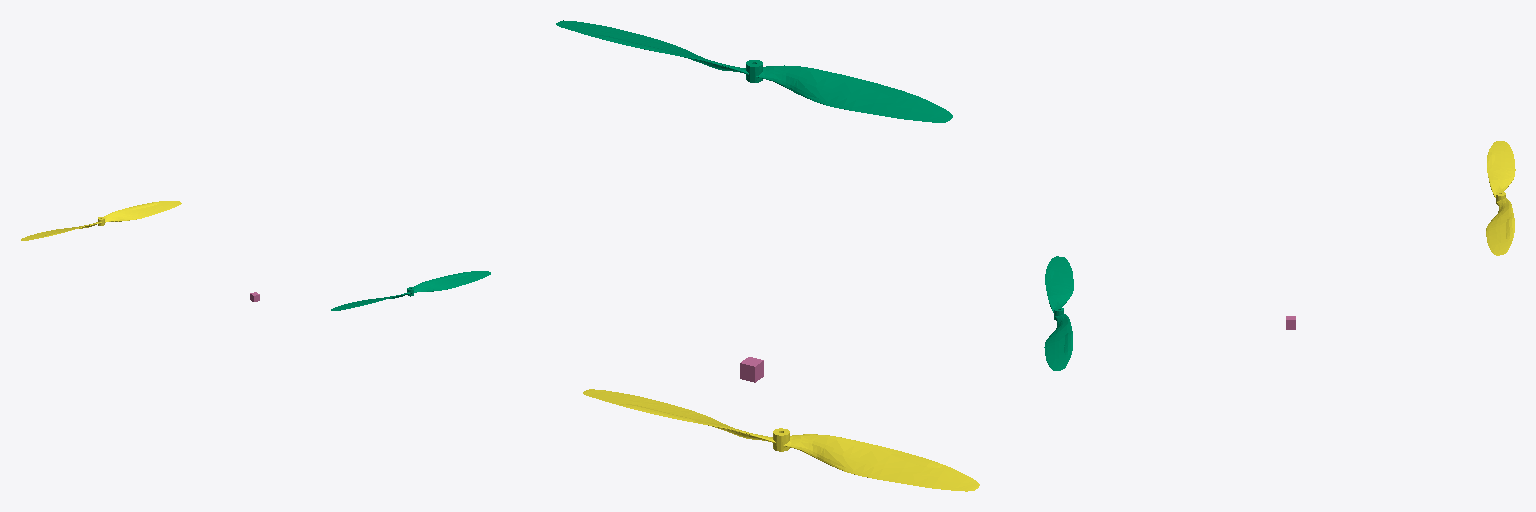
--- Render facts (derived) ---
3 views of the same robot in one strip: view 1: azimuth 30°, elevation 25°; view 2: azimuth 150°, elevation 25°; view 3: azimuth 270°, elevation 25° (orthographic).
Model iris with 8 links and 7 joints (1 revolute, 4 continuous, 2 fixed), rooted at base_link, posed all joints at 0.
Links seen in each view (by area): view 1: rotor_0, rotor_1; view 2: rotor_0, rotor_1; view 3: rotor_1, rotor_0.
Link boxes in pixels (left/top/right/bottom): rotor_0: left=331, top=271, right=490, bottom=310; rotor_1: left=21, top=201, right=181, bottom=240; rotor_0: left=556, top=20, right=952, bottom=122; rotor_1: left=583, top=389, right=979, bottom=491; rotor_1: left=1486, top=141, right=1515, bottom=255; rotor_0: left=1044, top=256, right=1073, bottom=370.
Size in the robot's own frame: 0.5177 by 0.448 by 0.078 metres.
2 mesh visuals loaded from 3 distinct referenced files (1 Collada DAE); not drawn: 3 (reference not matched to a file when rendering).

robot.urdf — iris:
<?xml version="1.0" ?>
<!-- =================================================================================== -->
<!-- |    This document was autogenerated by xacro from [local-path]/src/Firmware/Tools/sitl_gazebo/models/rotors_description/urdf/iris_base.xacro | -->
<!-- |    EDITING THIS FILE BY HAND IS NOT RECOMMENDED                                 | -->
<!-- =================================================================================== -->
<robot name="iris" xmlns:xacro="http://ros.org/wiki/xacro">
  <!-- Properties that can be assigned at build time as arguments.
  Is there a reason not to make all properties arguments?
  -->
  <!-- The following causes segfault with multiple vehicles if defaults to true!!! -->
  <!-- macros for gazebo plugins, sensors -->
  <!-- Macro to add logging to a bag file. -->
  <!-- Macro to add a camera. -->
  <!-- Macro to add the controller interface. -->
  <!-- Macro to add the gps_plugin. -->
  <!-- Macro to add the mavlink interface. -->
  <!-- Macro to add an IMU. -->
  <!-- Macro to add a generic odometry sensor. -->
  <!-- Macro to add the wind plugin. -->
  <!-- VI sensor macros -->
  <!-- Macro to add a VI-sensor camera. -->
  <!-- Macro to add a depth camera on the VI-sensor. -->
  <!-- VI-Sensor Macro -->
  <!-- Instantiate iris "mechanics" -->
  <!-- Properties -->
  <!-- [kg] -->
  <!-- [m] -->
  <!-- [m] -->
  <!-- [kg] -->
  <!-- [m] -->
  <!-- [m] -->
  <!-- [m] -->
  <!-- [m] -->
  <!-- [m] -->
  <!-- [m] -->
  <!-- [kg.m/s^2] -->
  <!-- [m] -->
  <!-- [s] -->
  <!-- [s] -->
  <!-- [rad/s] -->
  <!-- Property Blocks -->
  <!-- inertia of a single rotor, assuming it is a cuboid. Height=3mm, width=15mm -->
  <!-- Included URDF Files -->
  <!-- Main multirotor link -->
  <!-- Rotor joint and link -->
  <!-- Instantiate multirotor_base_macro once -->
  <!-- Instantiate multirotor_base_macro once -->

  <!-- Bloque base para odom -->
  <link name="base_link"/>
  <!--  <visual>
      <origin rpy="0 0 0" xyz="0 0 0"/>
      <geometry>
        <box size="0.01 0.01 0.01"/>
      </geometry>
      <material name="Black_metal"/>
    </visual>
    <inertial>
      <origin rpy="0 0 0" xyz="1.1102e-16 0 0"/>
      <mass value="1e-06"/>
      <inertia ixx="1.6667e-13" ixy="3.6964e-27" ixz="-3.3658e-30" iyy="1.6667e-13" iyz="-7.8823e-43" izz="1.6667e-13"/>
    </inertial>
  </link> -->
  <!-- AQUI MODIFIQUE -->

  <joint name="base_joint" type="fixed">
    <origin rpy="0 0 0" xyz="0 0 0"/>
    <parent link="base_link"/>
    <child link="base_link_inertia"/>
  </joint>
  <link name="base_link_inertia">
    <inertial>
      <mass value="1.5"/>
      <!-- [kg] 1.57079 -->
      <origin xyz="0 0 0"/>
      <inertia ixx="0.0347563" ixy="0.0" ixz="0.0" iyy="0.0458929" iyz="0.0" izz="0.0977"/>
    </inertial>
    <visual>
      <origin rpy="0 0 0" xyz="0 0 0"/>
      <geometry>
        <mesh filename="package://mavros_off_board/meshes/iris.stl" scale="1 1 1"/>
        <!-- <box size="${body_width} ${body_width} ${body_height}"/> -->
        <!-- [m] [m] [m] -->
      </geometry>
    </visual>
    <collision>
      <origin rpy="0 0 0" xyz="0 0 0"/>
      <geometry>
        <box size="0.47 0.47 0.11"/>
        <!-- [m] [m] [m] -->
      </geometry>
    </collision>
  </link>
  <!-- attach multirotor_base_plugin to the base_link -->
  <gazebo>
    <plugin filename="libgazebo_multirotor_base_plugin.so" name="rosbag">
      <robotNamespace></robotNamespace>
      <linkName>base_link</linkName>
      <rotorVelocitySlowdownSim>10</rotorVelocitySlowdownSim>
    </plugin>
  </gazebo>

  <gazebo reference="base_link">
    <material>Gazebo/DarkGrey</material>
    <collision name="base_link_inertia_collision">
      <surface>
        <contact>
          <ode>
            <min_depth>0.001</min_depth>
            <max_vel>0.0</max_vel>
          </ode>
        </contact>
        <friction>
          <ode/>
        </friction>
      </surface>
    </collision>
  </gazebo>

  <!-- Instantiate rotors -->
  <joint name="rotor_0_joint" type="continuous">
    <origin rpy="0 0 0" xyz="0.13 -0.22 0.023"/>
    <axis xyz="0 0 1"/>
    <!-- TODO(ff): not currently set because it's not yet supported -->
    <!-- <limit effort="2000" velocity="${max_rot_velocity}" /> -->
    <parent link="base_link"/>
    <child link="rotor_0"/>
  </joint>
  <!-- TODO(ff): not currently set because it's not yet supported -->
  <!-- <gazebo reference="rotor_${motor_number}_joint"> <axis> <xyz>0 0 1</xyz>
      <limit> <velocity> ${max_rot_velocity} </velocity> </limit> </axis> </gazebo> -->
  <link name="rotor_0">
    <inertial>
      <mass value="0.005"/>
      <!-- [kg] -->
      <inertia ixx="9.75e-07" ixy="0.0" ixz="0.0" iyy="0.000273104166667" iyz="0.0" izz="0.000274004166667"/>
    </inertial>
    <visual>
      <geometry>
        <!-- <cylinder length="0.005" radius="${radius_rotor}"/> -->
        <!-- [m] -->
        <!-- <mesh filename="package://mavlink_sitl_gazebo/models/rotors_description/meshes/propeller_${direction}.dae" -->
        <mesh filename="package://mavros_off_board/meshes/iris_prop_ccw.dae" scale="1 1 1"/>
        <!-- <box size="${2*radius_rotor} 0.01 0.005"/> -->
      </geometry>
    </visual>
    <collision>
      <geometry>
        <cylinder length="0.005" radius="0.128"/>
        <!-- [m] -->
      </geometry>
    </collision>
  </link>
  <gazebo>
    <plugin filename="libgazebo_motor_model.so" name="front_right_motor_model">
      <robotNamespace></robotNamespace>
      <jointName>rotor_0_joint</jointName>
      <linkName>rotor_0</linkName>
      <turningDirection>ccw</turningDirection>
      <timeConstantUp>0.0125</timeConstantUp>
      <timeConstantDown>0.025</timeConstantDown>
      <maxRotVelocity>1100</maxRotVelocity>
      <motorConstant>8.54858e-06</motorConstant>
      <momentConstant>0.06</momentConstant>
      <commandSubTopic>/gazebo/command/motor_speed</commandSubTopic>
      <motorNumber>0</motorNumber>
      <rotorDragCoefficient>0.000806428</rotorDragCoefficient>
      <rollingMomentCoefficient>1e-06</rollingMomentCoefficient>
      <motorSpeedPubTopic>/motor_speed/0</motorSpeedPubTopic>
      <rotorVelocitySlowdownSim>10</rotorVelocitySlowdownSim>
      <!--
        <gazebo_joint_control_pid>
          <p>0.1</p>
          <i>0</i>
          <d>0</d>
          <iMax>0</iMax>
          <iMin>0</iMin>
          <cmdMax>3</cmdMax>
          <cmdMin>-3</cmdMin>
        </gazebo_joint_control_pid>
      -->
    </plugin>
  </gazebo>
  <gazebo reference="rotor_0">
    <material>Gazebo/Blue</material>
  </gazebo>
  <joint name="rotor_1_joint" type="continuous">
    <origin rpy="0 0 0" xyz="-0.13 0.2 0.023"/>
    <axis xyz="0 0 1"/>
    <!-- TODO(ff): not currently set because it's not yet supported -->
    <!-- <limit effort="2000" velocity="${max_rot_velocity}" /> -->
    <parent link="base_link"/>
    <child link="rotor_1"/>
  </joint>
  <!-- TODO(ff): not currently set because it's not yet supported -->
  <!-- <gazebo reference="rotor_${motor_number}_joint"> <axis> <xyz>0 0 1</xyz>
      <limit> <velocity> ${max_rot_velocity} </velocity> </limit> </axis> </gazebo> -->
  <link name="rotor_1">
    <inertial>
      <mass value="0.005"/>
      <!-- [kg] -->
      <inertia ixx="9.75e-07" ixy="0.0" ixz="0.0" iyy="0.000273104166667" iyz="0.0" izz="0.000274004166667"/>
    </inertial>
    <visual>
      <geometry>
        <!-- <cylinder length="0.005" radius="${radius_rotor}"/> -->
        <!-- [m] -->
        <!-- <mesh filename="package://mavlink_sitl_gazebo/models/rotors_description/meshes/propeller_${direction}.dae" -->
        <mesh filename="package://mavros_off_board/meshes/iris_prop_ccw.dae" scale="1 1 1"/>
        <!-- <box size="${2*radius_rotor} 0.01 0.005"/> -->
      </geometry>
    </visual>
    <collision>
      <geometry>
        <cylinder length="0.005" radius="0.128"/>
        <!-- [m] -->
      </geometry>
    </collision>
  </link>
  <gazebo>
    <plugin filename="libgazebo_motor_model.so" name="back_left_motor_model">
      <robotNamespace></robotNamespace>
      <jointName>rotor_1_joint</jointName>
      <linkName>rotor_1</linkName>
      <turningDirection>ccw</turningDirection>
      <timeConstantUp>0.0125</timeConstantUp>
      <timeConstantDown>0.025</timeConstantDown>
      <maxRotVelocity>1100</maxRotVelocity>
      <motorConstant>8.54858e-06</motorConstant>
      <momentConstant>0.06</momentConstant>
      <commandSubTopic>/gazebo/command/motor_speed</commandSubTopic>
      <motorNumber>1</motorNumber>
      <rotorDragCoefficient>0.000806428</rotorDragCoefficient>
      <rollingMomentCoefficient>1e-06</rollingMomentCoefficient>
      <motorSpeedPubTopic>/motor_speed/1</motorSpeedPubTopic>
      <rotorVelocitySlowdownSim>10</rotorVelocitySlowdownSim>
      <!--
        <gazebo_joint_control_pid>
          <p>0.1</p>
          <i>0</i>
          <d>0</d>
          <iMax>0</iMax>
          <iMin>0</iMin>
          <cmdMax>3</cmdMax>
          <cmdMin>-3</cmdMin>
        </gazebo_joint_control_pid>
      -->
    </plugin>
  </gazebo>
  <gazebo reference="rotor_1">
    <material>Gazebo/DarkGrey</material>
  </gazebo>
  <joint name="rotor_2_joint" type="continuous">
    <origin rpy="0 0 0" xyz="0.13 0.22 0.023"/>
    <axis xyz="0 0 1"/>
    <!-- TODO(ff): not currently set because it's not yet supported -->
    <!-- <limit effort="2000" velocity="${max_rot_velocity}" /> -->
    <parent link="base_link"/>
    <child link="rotor_2"/>
  </joint>
  <!-- TODO(ff): not currently set because it's not yet supported -->
  <!-- <gazebo reference="rotor_${motor_number}_joint"> <axis> <xyz>0 0 1</xyz>
      <limit> <velocity> ${max_rot_velocity} </velocity> </limit> </axis> </gazebo> -->
  <link name="rotor_2">
    <inertial>
      <mass value="0.005"/>
      <!-- [kg] -->
      <inertia ixx="9.75e-07" ixy="0.0" ixz="0.0" iyy="0.000273104166667" iyz="0.0" izz="0.000274004166667"/>
    </inertial>
    <visual>
      <geometry>
        <!-- <cylinder length="0.005" radius="${radius_rotor}"/> -->
        <!-- [m] -->
        <!-- <mesh filename="package://mavlink_sitl_gazebo/models/rotors_description/meshes/propeller_${direction}.dae" -->
        <mesh filename="package://mavros_off_board/meshes/iris_prop_cw.dae" scale="1 1 1"/>
        <!-- <box size="${2*radius_rotor} 0.01 0.005"/> -->
      </geometry>
    </visual>
    <collision>
      <geometry>
        <cylinder length="0.005" radius="0.128"/>
        <!-- [m] -->
      </geometry>
    </collision>
  </link>
  <gazebo>
    <plugin filename="libgazebo_motor_model.so" name="front_left_motor_model">
      <robotNamespace></robotNamespace>
      <jointName>rotor_2_joint</jointName>
      <linkName>rotor_2</linkName>
      <turningDirection>cw</turningDirection>
      <timeConstantUp>0.0125</timeConstantUp>
      <timeConstantDown>0.025</timeConstantDown>
      <maxRotVelocity>1100</maxRotVelocity>
      <motorConstant>8.54858e-06</motorConstant>
      <momentConstant>0.06</momentConstant>
      <commandSubTopic>/gazebo/command/motor_speed</commandSubTopic>
      <motorNumber>2</motorNumber>
      <rotorDragCoefficient>0.000806428</rotorDragCoefficient>
      <rollingMomentCoefficient>1e-06</rollingMomentCoefficient>
      <motorSpeedPubTopic>/motor_speed/2</motorSpeedPubTopic>
      <rotorVelocitySlowdownSim>10</rotorVelocitySlowdownSim>
      <!--
        <gazebo_joint_control_pid>
          <p>0.1</p>
          <i>0</i>
          <d>0</d>
          <iMax>0</iMax>
          <iMin>0</iMin>
          <cmdMax>3</cmdMax>
          <cmdMin>-3</cmdMin>
        </gazebo_joint_control_pid>
      -->
    </plugin>
  </gazebo>
  <gazebo reference="rotor_2">
    <material>Gazebo/Blue</material>
  </gazebo>
  <joint name="rotor_3_joint" type="continuous">
    <origin rpy="0 0 0" xyz="-0.13 -0.2 0.023"/>
    <axis xyz="0 0 1"/>
    <!-- TODO(ff): not currently set because it's not yet supported -->
    <!-- <limit effort="2000" velocity="${max_rot_velocity}" /> -->
    <parent link="base_link"/>
    <child link="rotor_3"/>
  </joint>
  <!-- TODO(ff): not currently set because it's not yet supported -->
  <!-- <gazebo reference="rotor_${motor_number}_joint"> <axis> <xyz>0 0 1</xyz>
      <limit> <velocity> ${max_rot_velocity} </velocity> </limit> </axis> </gazebo> -->
  <link name="rotor_3">
    <inertial>
      <mass value="0.005"/>
      <!-- [kg] -->
      <inertia ixx="9.75e-07" ixy="0.0" ixz="0.0" iyy="0.000273104166667" iyz="0.0" izz="0.000274004166667"/>
    </inertial>
    <visual>
      <geometry>
        <!-- <cylinder length="0.005" radius="${radius_rotor}"/> -->
        <!-- [m] -->
        <!-- <mesh filename="package://mavlink_sitl_gazebo/models/rotors_description/meshes/propeller_${direction}.dae" -->
        <mesh filename="package://mavros_off_board/meshes/iris_prop_cw.dae" scale="1 1 1"/>
        <!-- <box size="${2*radius_rotor} 0.01 0.005"/> -->
      </geometry>
    </visual>
    <collision>
      <geometry>
        <cylinder length="0.005" radius="0.128"/>
        <!-- [m] -->
      </geometry>
    </collision>
  </link>
  <gazebo>
    <plugin filename="libgazebo_motor_model.so" name="back_right_motor_model">
      <robotNamespace></robotNamespace>
      <jointName>rotor_3_joint</jointName>
      <linkName>rotor_3</linkName>
      <turningDirection>cw</turningDirection>
      <timeConstantUp>0.0125</timeConstantUp>
      <timeConstantDown>0.025</timeConstantDown>
      <maxRotVelocity>1100</maxRotVelocity>
      <motorConstant>8.54858e-06</motorConstant>
      <momentConstant>0.06</momentConstant>
      <commandSubTopic>/gazebo/command/motor_speed</commandSubTopic>
      <motorNumber>3</motorNumber>
      <rotorDragCoefficient>0.000806428</rotorDragCoefficient>
      <rollingMomentCoefficient>1e-06</rollingMomentCoefficient>
      <motorSpeedPubTopic>/motor_speed/3</motorSpeedPubTopic>
      <rotorVelocitySlowdownSim>10</rotorVelocitySlowdownSim>
      <!--
        <gazebo_joint_control_pid>
          <p>0.1</p>
          <i>0</i>
          <d>0</d>
          <iMax>0</iMax>
          <iMin>0</iMin>
          <cmdMax>3</cmdMax>
          <cmdMin>-3</cmdMin>
        </gazebo_joint_control_pid>
      -->
    </plugin>
  </gazebo>
  <gazebo reference="rotor_3">
    <material>Gazebo/DarkGrey</material>
  </gazebo>
  <!-- Instantiate gps plugin. -->
  <gazebo>
    <plugin filename="libgazebo_gps_plugin.so" name="gps_plugin">
      <robotNamespace></robotNamespace>
      <gpsNoise>true</gpsNoise>
    </plugin>
  </gazebo>
  <!-- Instantiate mavlink telemetry interface. -->
  <gazebo>
    <plugin filename="libgazebo_mavlink_interface.so" name="mavlink_interface">
      <robotNamespace></robotNamespace>
      <imuSubTopic>/imu</imuSubTopic>
      <gpsSubTopic>/gps</gpsSubTopic>
      <mavlink_addr>INADDR_ANY</mavlink_addr>
      <mavlink_udp_port>14560</mavlink_udp_port>
      <serialEnabled>false</serialEnabled>
      <serialDevice>/dev/ttyACM0</serialDevice>
      <baudRate>921600</baudRate>
      <qgc_addr>INADDR_ANY</qgc_addr>
      <qgc_udp_port>14550</qgc_udp_port>
      <hil_mode>false</hil_mode>
      <hil_state_level>false</hil_state_level>
      <vehicle_is_tailsitter>false</vehicle_is_tailsitter>
      <send_odometry>false</send_odometry> <!-- false -->
      <motorSpeedCommandPubTopic>/gazebo/command/motor_speed</motorSpeedCommandPubTopic>
      <control_channels>
        <channel name="rotor1">
          <input_index>0</input_index>
          <input_offset>0</input_offset>
          <input_scaling>1000</input_scaling>
          <zero_position_disarmed>0</zero_position_disarmed>
          <zero_position_armed>100</zero_position_armed>
          <joint_control_type>velocity</joint_control_type>
        </channel>
        <channel name="rotor2">
          <input_index>1</input_index>
          <input_offset>0</input_offset>
          <input_scaling>1000</input_scaling>
          <zero_position_disarmed>0</zero_position_disarmed>
          <zero_position_armed>100</zero_position_armed>
          <joint_control_type>velocity</joint_control_type>
        </channel>
        <channel name="rotor3">
          <input_index>2</input_index>
          <input_offset>0</input_offset>
          <input_scaling>1000</input_scaling>
          <zero_position_disarmed>0</zero_position_disarmed>
          <zero_position_armed>100</zero_position_armed>
          <joint_control_type>velocity</joint_control_type>
        </channel>
        <channel name="rotor4">
          <input_index>3</input_index>
          <input_offset>0</input_offset>
          <input_scaling>1000</input_scaling>
          <zero_position_disarmed>0</zero_position_disarmed>
          <zero_position_armed>100</zero_position_armed>
          <joint_control_type>velocity</joint_control_type>
        </channel>
        <channel name="rotor5">
          <input_index>4</input_index>
          <input_offset>1</input_offset>
          <input_scaling>324.6</input_scaling>
          <zero_position_disarmed>0</zero_position_disarmed>
          <zero_position_armed>0</zero_position_armed>
          <joint_control_type>velocity</joint_control_type>
          <joint_control_pid>
            <p>0.1</p>
            <i>0</i>
            <d>0</d>
            <iMax>0.0</iMax>
            <iMin>0.0</iMin>
            <cmdMax>2</cmdMax>
            <cmdMin>-2</cmdMin>
          </joint_control_pid>
          <joint_name>zephyr_delta_wing::propeller_joint</joint_name>
        </channel>
        <channel name="rotor6">
          <input_index>5</input_index>
          <input_offset>0</input_offset>
          <!-- joint limits [-0.524, 0.524] -->
          <input_scaling>0.524</input_scaling>
          <zero_position_disarmed>0</zero_position_disarmed>
          <zero_position_armed>0</zero_position_armed>
          <joint_control_type>position</joint_control_type>
          <joint_name>zephyr_delta_wing::flap_left_joint</joint_name>
          <joint_control_pid>
            <p>10.0</p>
            <i>0</i>
            <d>0</d>
            <iMax>0</iMax>
            <iMin>0</iMin>
            <cmdMax>20</cmdMax>
            <cmdMin>-20</cmdMin>
          </joint_control_pid>
        </channel>
        <channel name="rotor7">
          <input_index>6</input_index>
          <input_offset>0</input_offset>
          <!-- joint limits [-0.524, 0.524] -->
          <input_scaling>0.524</input_scaling>
          <zero_position_disarmed>0</zero_position_disarmed>
          <zero_position_armed>0</zero_position_armed>
          <joint_control_type>position</joint_control_type>
          <joint_name>zephyr_delta_wing::flap_right_joint</joint_name>
          <joint_control_pid>
            <p>10.0</p>
            <i>0</i>
            <d>0</d>
            <iMax>0</iMax>
            <iMin>0</iMin>
            <cmdMax>20</cmdMax>
            <cmdMin>-20</cmdMin>
          </joint_control_pid>
        </channel>
        <channel name="rotor8">
          <input_index>7</input_index>
          <input_offset>0</input_offset>
          <input_scaling>0.524</input_scaling>
          <zero_position_disarmed>0</zero_position_disarmed>
          <zero_position_armed>0</zero_position_armed>
          <joint_control_type>position</joint_control_type>
        </channel>
      </control_channels>
    </plugin>
  </gazebo>
  <!-- ********************************* -->
  <!-- Here i'm mounting the camera -->
  <link name="/camera_red_iris_link">
    <collision>
      <origin rpy="0 0 0" xyz="0 0 0"/>
      <geometry>
        <box size="0.01 0.01 0.01"/>
      </geometry>
    </collision>
    <visual>
      <origin rpy="0 1.57079632679 0" xyz="0 0 0"/>
      <geometry>
        <box size="0.01 0.01 0.01"/>
      </geometry>
      <material name="red"/>
    </visual>
    <inertial>
      <mass value="1e-5"/>
      <origin rpy="0 0 0" xyz="0 0 0"/>
      <inertia ixx="1e-6" ixy="0" ixz="0" iyy="1e-6" iyz="0" izz="1e-6"/>
    </inertial>
  </link>
  <joint name="/camera_red_iris_joint" type="fixed">
    <origin rpy="0 1.57079 0" xyz="0 0 -0.045"/>
    <parent link="base_link"/>
    <child link="/camera_red_iris_link"/>
  </joint>
  <gazebo reference="/camera_red_iris_link">
    <sensor name="_camera_red_iris" type="camera">
      <update_rate>30.0</update_rate>
      <camera name="head">
        <horizontal_fov>1.3962634</horizontal_fov>
        <image>
          <width>640</width>
          <height>480</height>
          <format>R8G8B8</format>
        </image>
        <clip>
          <near>0.02</near>
          <far>300</far>
        </clip>
        <noise>
          <type>gaussian</type>
          <!-- Noise is sampled independently per pixel on each frame.
                 That pixel's noise value is added to each of its color
                 channels, which at that point lie in the range [0,1]. -->
          <mean>0.0</mean>
          <stddev>0.007</stddev>
        </noise>
      </camera>
      <plugin filename="libgazebo_ros_camera.so" name="_camera_red_iris_controller">
        <robotNamespace></robotNamespace>
        <alwaysOn>true</alwaysOn>
        <updateRate>30.0</updateRate>
        <cameraName>camera_red_iris</cameraName>
        <imageTopicName>image_raw</imageTopicName>
        <cameraInfoTopicName>camera_info</cameraInfoTopicName>
        <frameName>camera_red_iris_link</frameName>
        <hackBaseline>0.0</hackBaseline>
        <distortionK1>0.0</distortionK1>
        <distortionK2>0.0</distortionK2>
        <distortionK3>0.0</distortionK3>
        <distortionT1>0.0</distortionT1>
        <distortionT2>0.0</distortionT2>
      </plugin>
    </sensor>
  </gazebo>
  <!-- ********************************* -->
  <!-- Mount an ADIS16448 IMU. -->
  <!-- IMU link -->
  <link name="/imu_link">
    <inertial>
      <inertia ixx="0.00001" ixy="0.0" ixz="0.0" iyy="0.00001" iyz="0.0" izz="0.00001"/>
      <mass value="0.015"/>
      <!-- [kg] -->
      <origin rpy="0 0 0" xyz="0 0 0"/>
    </inertial>
  </link>
  <!-- IMU joint -->
  <joint name="/imu_joint" type="revolute">
    <origin rpy="0 0 0" xyz="0 0 0"/>
    <parent link="base_link"/>
    <child link="/imu_link"/>
    <limit effort="0" lower="0" upper="0" velocity="0"/>
  </joint>
  <gazebo>
    <plugin filename="libgazebo_imu_plugin.so" name="rotors_gazebo_imu_plugin">
      <!-- A good description of the IMU parameters can be found in the kalibr documentation:
           https://github.com/ethz-asl/kalibr/wiki/IMU-Noise-Model-and-Intrinsics -->
      <robotNamespace></robotNamespace>
      <!-- (string, required): ros namespace in which the messages are published -->
      <linkName>/imu_link</linkName>
      <!-- (string, required): name of the body which holds the IMU sensor -->
      <imuTopic>/imu</imuTopic>
      <!-- (string): name of the sensor output topic and prefix of service names (defaults to imu) -->
      <gyroscopeNoiseDensity>0.0003394</gyroscopeNoiseDensity>
      <!-- Gyroscope noise density (two-sided spectrum) [rad/s/sqrt(Hz)] -->
      <gyroscopeRandomWalk>3.8785e-05</gyroscopeRandomWalk>
      <!-- Gyroscope bias random walk [rad/s/s/sqrt(Hz)] -->
      <gyroscopeBiasCorrelationTime>1000.0</gyroscopeBiasCorrelationTime>
      <!-- Gyroscope bias correlation time constant [s] -->
      <gyroscopeTurnOnBiasSigma>0.0087</gyroscopeTurnOnBiasSigma>
      <!-- Gyroscope turn on bias standard deviation [rad/s] -->
      <accelerometerNoiseDensity>0.004</accelerometerNoiseDensity>
      <!-- Accelerometer noise density (two-sided spectrum) [m/s^2/sqrt(Hz)] -->
      <accelerometerRandomWalk>0.006</accelerometerRandomWalk>
      <!-- Accelerometer bias random walk. [m/s^2/s/sqrt(Hz)] -->
      <accelerometerBiasCorrelationTime>300.0</accelerometerBiasCorrelationTime>
      <!-- Accelerometer bias correlation time constant [s] -->
      <accelerometerTurnOnBiasSigma>0.196</accelerometerTurnOnBiasSigma>
      <!-- Accelerometer turn on bias standard deviation [m/s^2] -->
    </plugin>
  </gazebo>
  <!-- ros_control plugin 
  <gazebo>
    <plugin name="gazebo_ros_control" filename="libgazebo_ros_control.so">
    <robotNamespace>/iris</robotNamespace>
    </plugin>
  </gazebo> -->
  
</robot>
